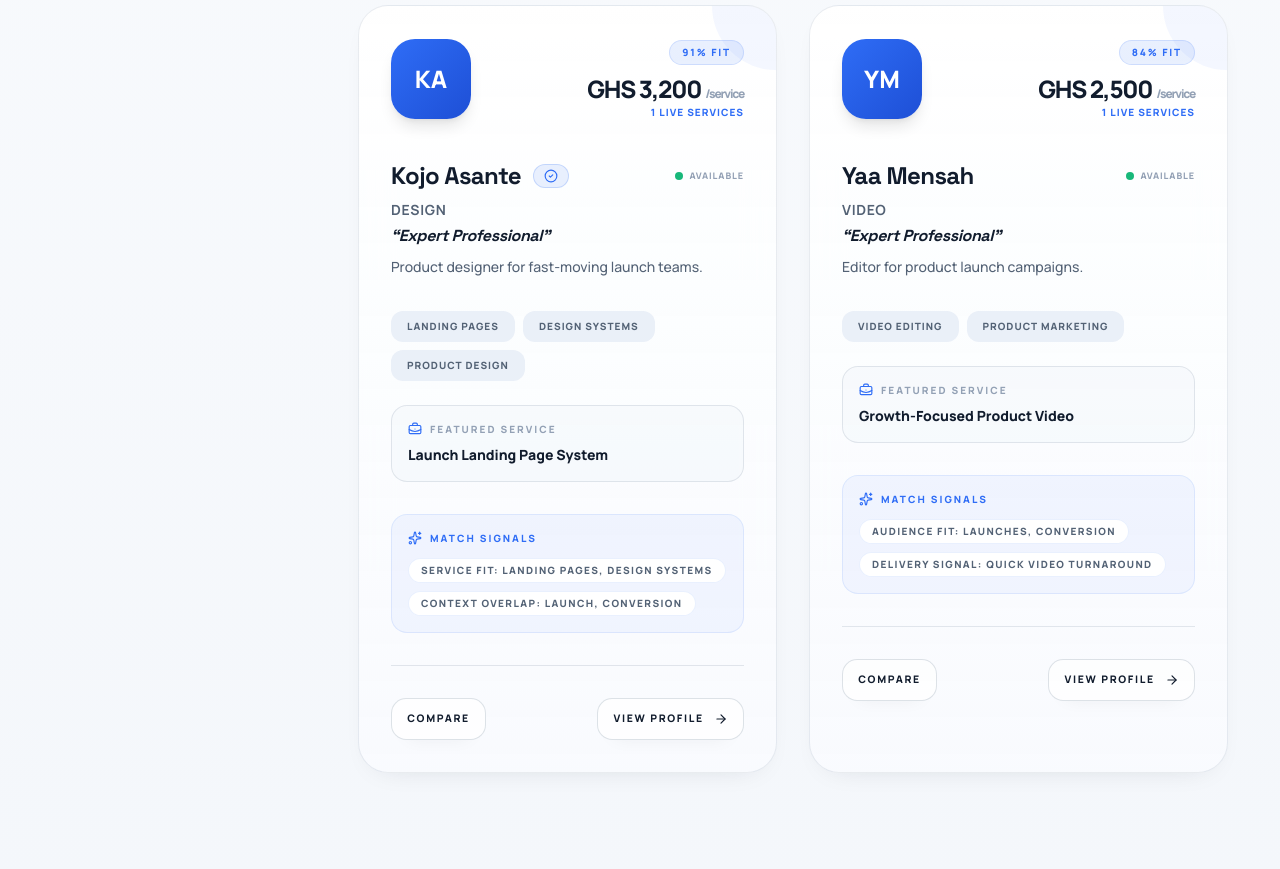
FreelancerMarketplace recommendation flow › compares selected marketplace freelancer options for seekers
(page scrolled)
Step 1. Click the button with aria-label "Compare Kojo Asante" → (438, 719), box [391,698,486,740]
(page scrolled)
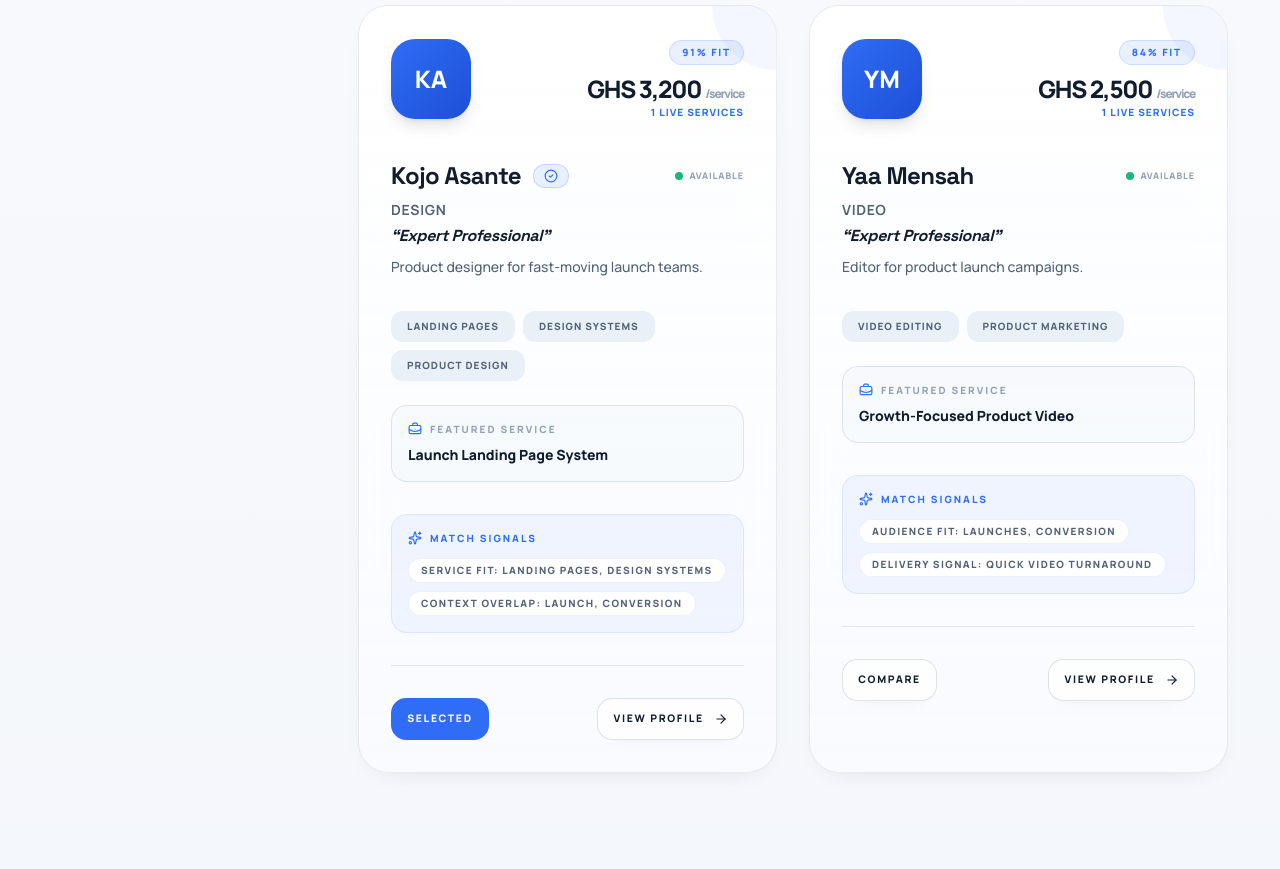
Step 2. Click the button with aria-label "Compare Yaa Mensah" → (890, 680), box [842,658,937,701]
(page scrolled)
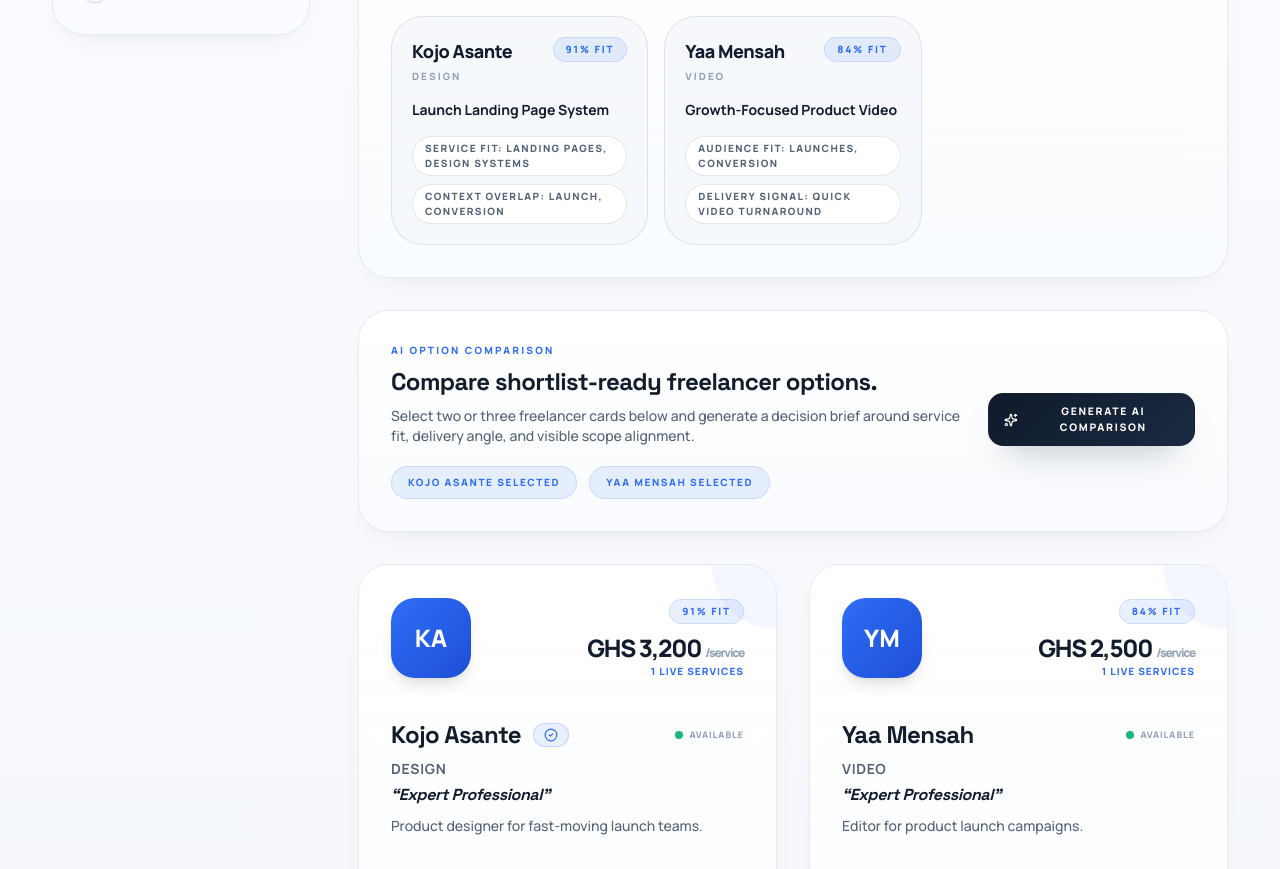
Step 3. Click the button "Generate AI Comparison" → (1091, 420), box [988,393,1195,446]
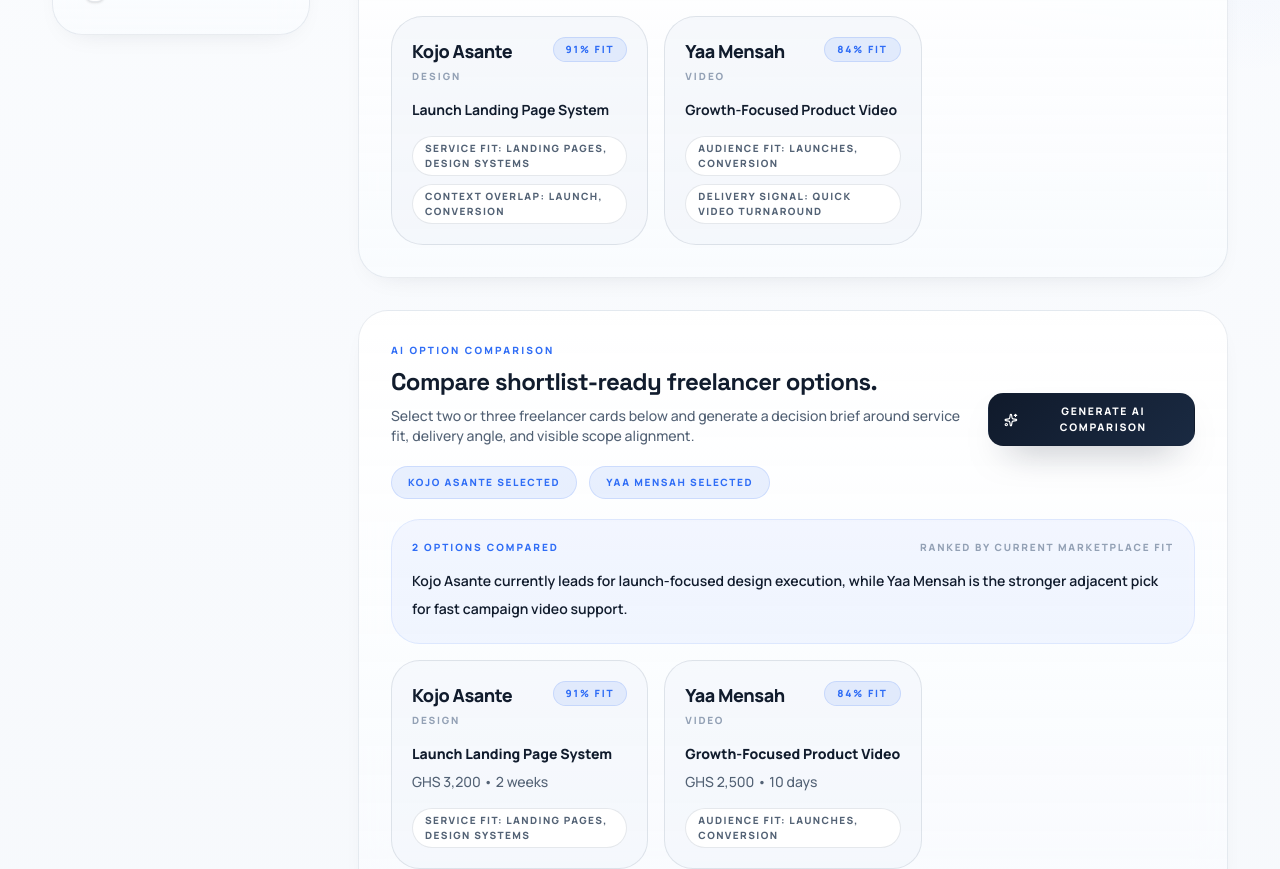
expect the text "Launch Landing Page System" below "AI Service Picks" is shown: met, box [412,100,609,119]
expect the text "Kojo Asante currently leads for launch-focused design execution" is shown: met, box [412,571,1158,618]
expect the text "2 options compared" is shown: met, box [412,540,559,555]
